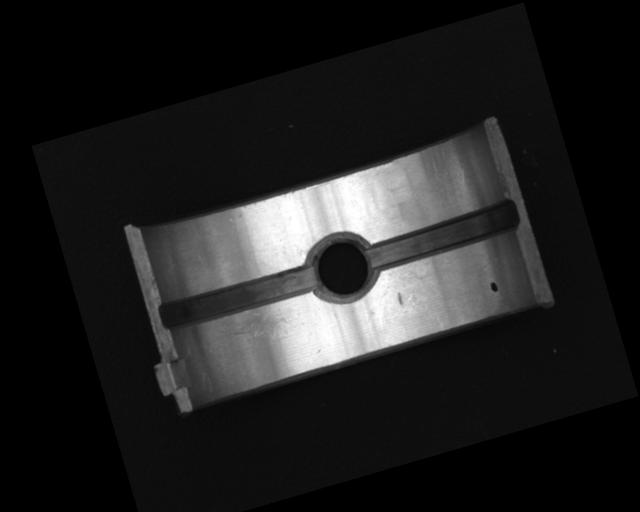blot: (488, 279, 499, 293)
bruise: (395, 291, 404, 306)
gap: (156, 259, 321, 336), (365, 200, 523, 272)
hole: (300, 223, 385, 312)
scratch: (195, 296, 300, 361)
